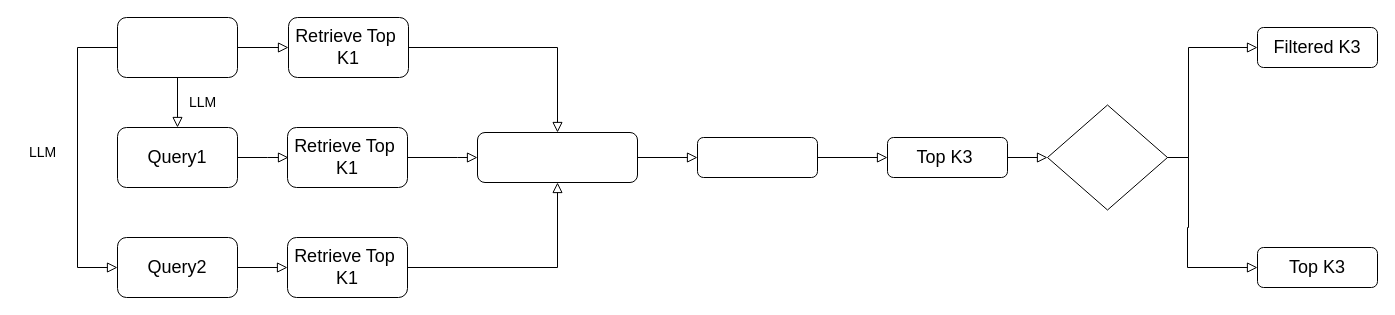
The diagram is 1395 pixels wide and 315 high, and some of its shapes have lost their labels. The shapes that lost their labels are listed below. From the top down, each one's centre as x and y in pixels, then its label:
At pixel 177 47: "Original Query".
At pixel 557 157: "Reciprocal Rank Fusion K2".
At pixel 757 157: "Rerank".
At pixel 1107 157: "Score > 0.6".
